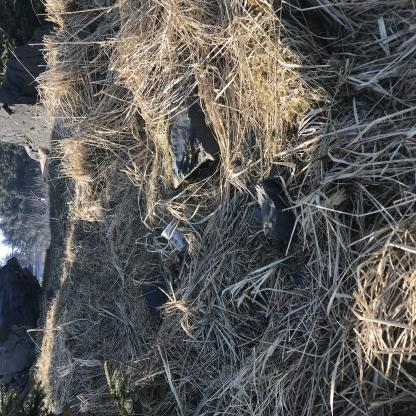trash: (122, 213, 152, 254)
